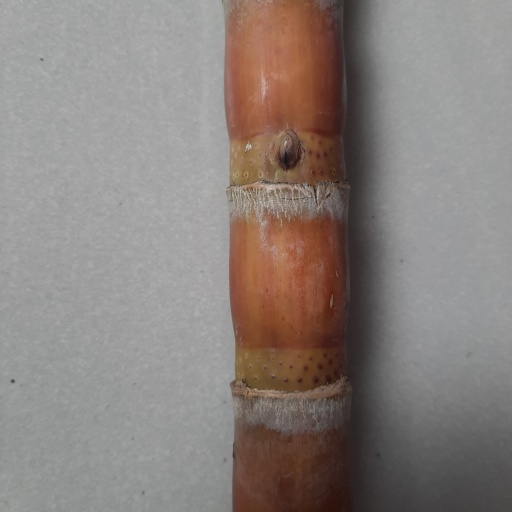Bud: (270, 130, 301, 173)
